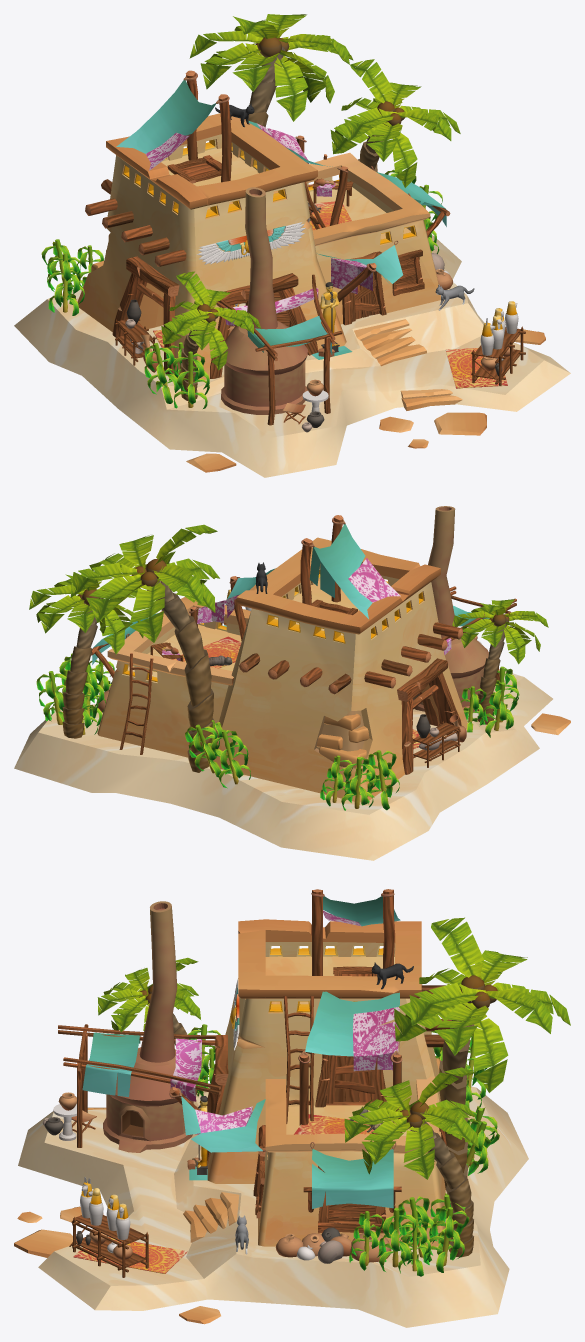
File: dae_villages_-_egyptian_pottery-BwhAHzqw.glb
3 renders of one model, top to bottom at view 1: azimuth 30°, elevation 25°; view 2: azimuth 150°, elevation 25°; view 3: azimuth 270°, elevation 25°, orthographic. The views are drawn at different scales.
Visible parts, largest first — view 1: House, Groundplane, Plants, Oven, Stairs, Racks, Rocks, Jars, Carpets, WingedSun, CanopicPots, Cats (+2 smaller); view 2: House, Groundplane, Plants, Oven, Racks, Ladder, Jars, Carpets, Rocks, Cats; view 3: House, Groundplane, Plants, Oven, Jars, Carpets, Rocks, Racks, Stairs, CanopicPots, Ladder, Cats (+1 smaller).
Part boxes in pixels (x1,y1,x2,y2): House: (77,70,450,425); Groundplane: (14,234,570,477); Plants: (41,14,460,408); Oven: (221,187,307,414); Stairs: (354,319,462,410); Racks: (115,179,525,385); Rocks: (186,329,545,472); Jars: (125,178,513,432); Carpets: (153,201,507,388); WingedSun: (197,222,305,264); CanopicPots: (234,301,518,355); Cats: (215,103,474,310); House: (91,515,516,802); Groundplane: (14,669,552,860); Plants: (29,524,548,810); Oven: (412,506,488,713); Racks: (150,622,460,767); Ladder: (119,653,153,754); Jars: (96,633,477,750); Carpets: (172,636,420,749); Rocks: (531,713,570,734); Cats: (208,562,267,666); House: (58,889,451,1246); Groundplane: (18,1087,528,1327); Plants: (97,917,570,1276); Oven: (103,901,196,1152); Jars: (42,1092,396,1263); Carpets: (73,1114,374,1273); Rocks: (14,1107,220,1324); Racks: (69,1128,408,1277); Stairs: (183,1192,239,1242); CanopicPots: (80,1177,130,1239); Ladder: (283,996,446,1145); Cats: (235,962,413,1254).
Size of the model in its own units: 356 by 230 by 378.
2 materials, 2 textured.
